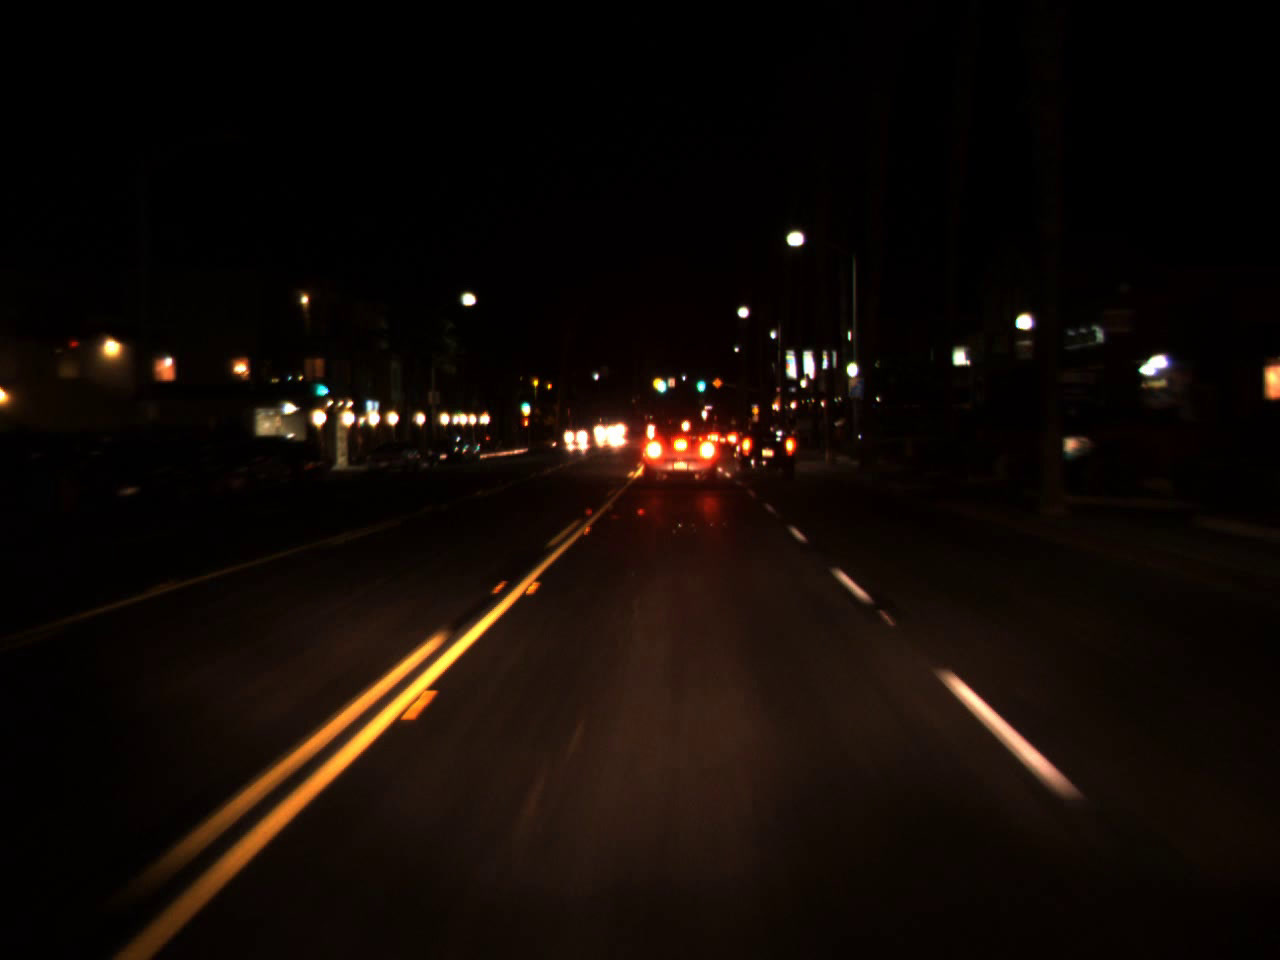go: (655, 370, 667, 397), (516, 394, 532, 412), (694, 371, 706, 392)
